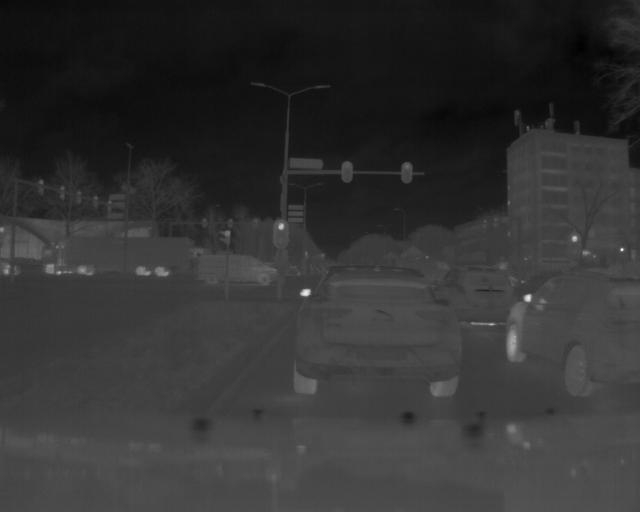car: (295, 271, 465, 401), (508, 275, 640, 394), (196, 251, 282, 290)
